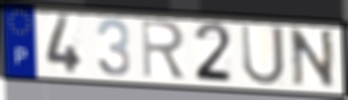2: (192, 20, 233, 85)
3: (95, 16, 132, 77)
4: (44, 12, 85, 76)
N: (287, 27, 337, 90)
R: (139, 17, 188, 81)
U: (239, 22, 288, 88)
